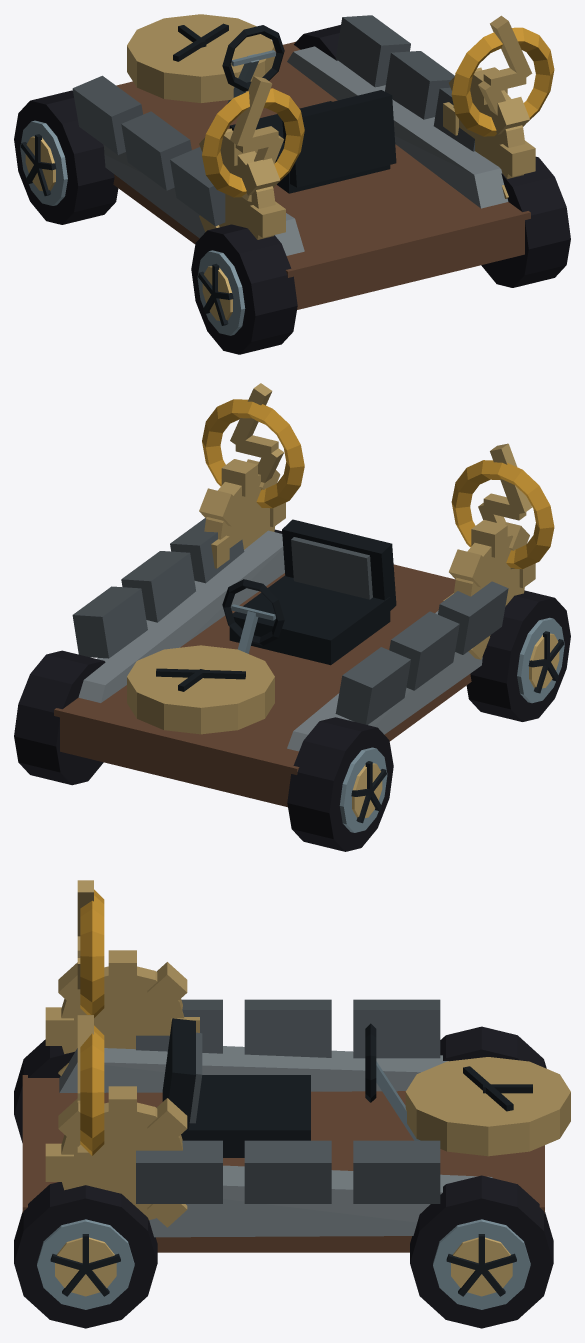
File: kart.glb
3 views of the same model, one above another, from view 1: azimuth 30°, elevation 25°; view 2: azimuth 150°, elevation 25°; view 3: azimuth 270°, elevation 25° (orthographic). The views are drawn at different scales.
Visible parts, largest first — view 1: identity-clockwork-clockwork-brass-escapement, identity-clockwork-motif-armor, wheel-rear-left, identity-clockwork-driver-cockpit, wheel-front-left, identity-clockwork-motif-ring, wheel-rear-right, identity-clockwork-motif-electric, wheel-front-right; view 2: identity-clockwork-clockwork-brass-escapement, identity-clockwork-motif-armor, identity-clockwork-driver-cockpit, wheel-front-left, wheel-rear-left, identity-clockwork-motif-ring, wheel-front-right, identity-clockwork-motif-electric; view 3: identity-clockwork-clockwork-brass-escapement, identity-clockwork-motif-armor, wheel-front-right, wheel-rear-right, identity-clockwork-driver-cockpit, identity-clockwork-motif-ring, wheel-front-left, wheel-rear-left, identity-clockwork-motif-electric.
Boxes of the visible parts, bbox=[...] form: identity-clockwork-clockwork-brass-escapement: bbox=[103, 14, 535, 309]; identity-clockwork-motif-armor: bbox=[72, 15, 474, 226]; wheel-rear-left: bbox=[191, 224, 297, 354]; identity-clockwork-driver-cockpit: bbox=[222, 25, 396, 193]; wheel-front-left: bbox=[14, 90, 118, 224]; identity-clockwork-motif-ring: bbox=[202, 27, 554, 197]; wheel-rear-right: bbox=[481, 156, 570, 287]; identity-clockwork-motif-electric: bbox=[230, 15, 532, 201]; wheel-front-right: bbox=[294, 25, 340, 60]; identity-clockwork-clockwork-brass-escapement: bbox=[54, 459, 535, 807]; identity-clockwork-motif-armor: bbox=[72, 518, 508, 724]; identity-clockwork-driver-cockpit: bbox=[222, 519, 396, 665]; wheel-front-left: bbox=[287, 717, 393, 851]; wheel-rear-left: bbox=[466, 590, 570, 721]; identity-clockwork-motif-ring: bbox=[202, 399, 554, 569]; wheel-front-right: bbox=[14, 650, 105, 785]; identity-clockwork-motif-electric: bbox=[230, 383, 532, 569]; identity-clockwork-clockwork-brass-escapement: bbox=[22, 950, 570, 1252]; identity-clockwork-motif-armor: bbox=[136, 999, 440, 1203]; wheel-front-right: bbox=[410, 1175, 553, 1328]; wheel-rear-right: bbox=[14, 1182, 157, 1328]; identity-clockwork-driver-cockpit: bbox=[162, 1018, 420, 1157]; identity-clockwork-motif-ring: bbox=[80, 889, 104, 1155]; wheel-front-left: bbox=[440, 1026, 546, 1068]; wheel-rear-left: bbox=[14, 1039, 74, 1142]; identity-clockwork-motif-electric: bbox=[77, 880, 93, 1152].
Size of the model in its own units: 2.09 by 1.49 by 2.56.
